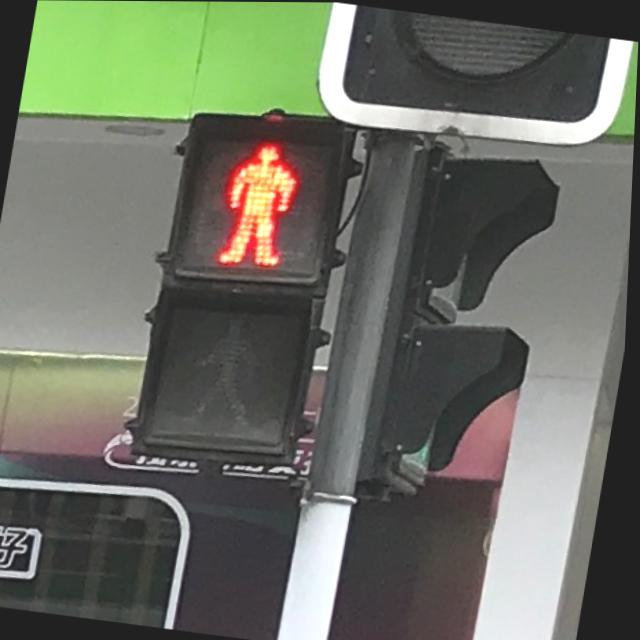red_light: (202, 123, 311, 269)
